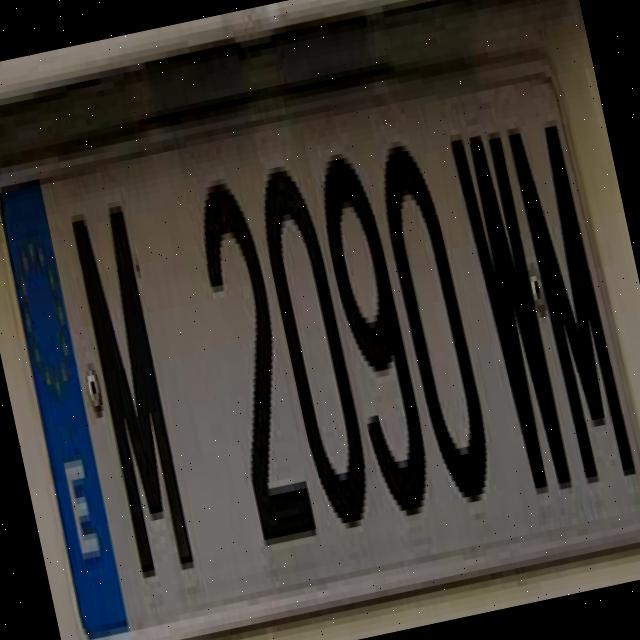EU: (0, 59, 640, 640)
Espagne: (0, 167, 129, 627)
